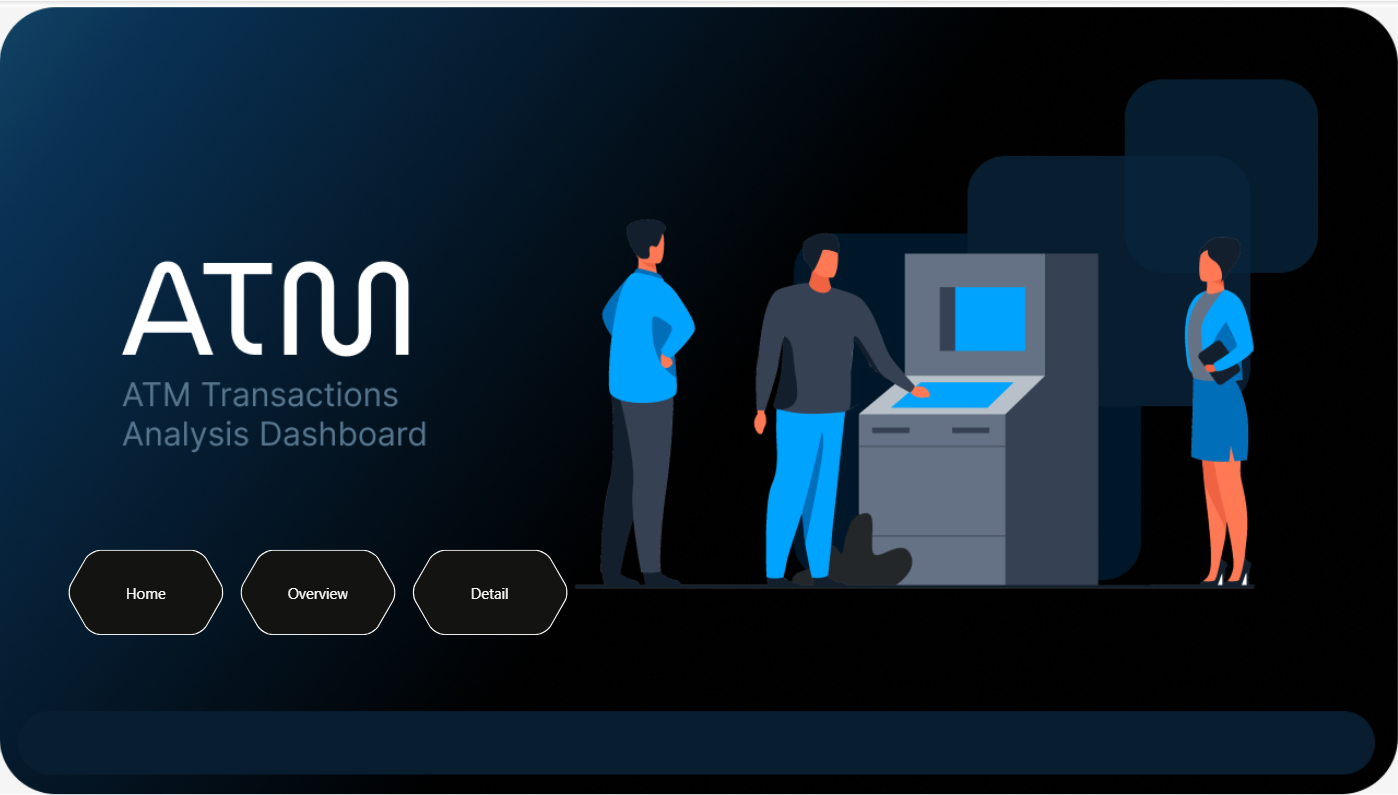

What the dashboard file says about the page in this screenshot:
{"tool":"powerbi","page":{"name":"Home","canvas":[1280,720],"ordinal":0},"visuals":[{"type":"image","box":[9.6,0,1270.7,720.4],"z":0},{"type":"pageNavigator","box":[73.6,489.1,456.9,76.7],"z":1000}]}

Visuals, with their boxes in screenshot pixels (x1, y1, x2, y2), scaled from the page's 1280x720 canvas onto the 1398x795 screenshot:
image: (10, 0, 1397, 794)
pageNavigator: (80, 540, 579, 625)
